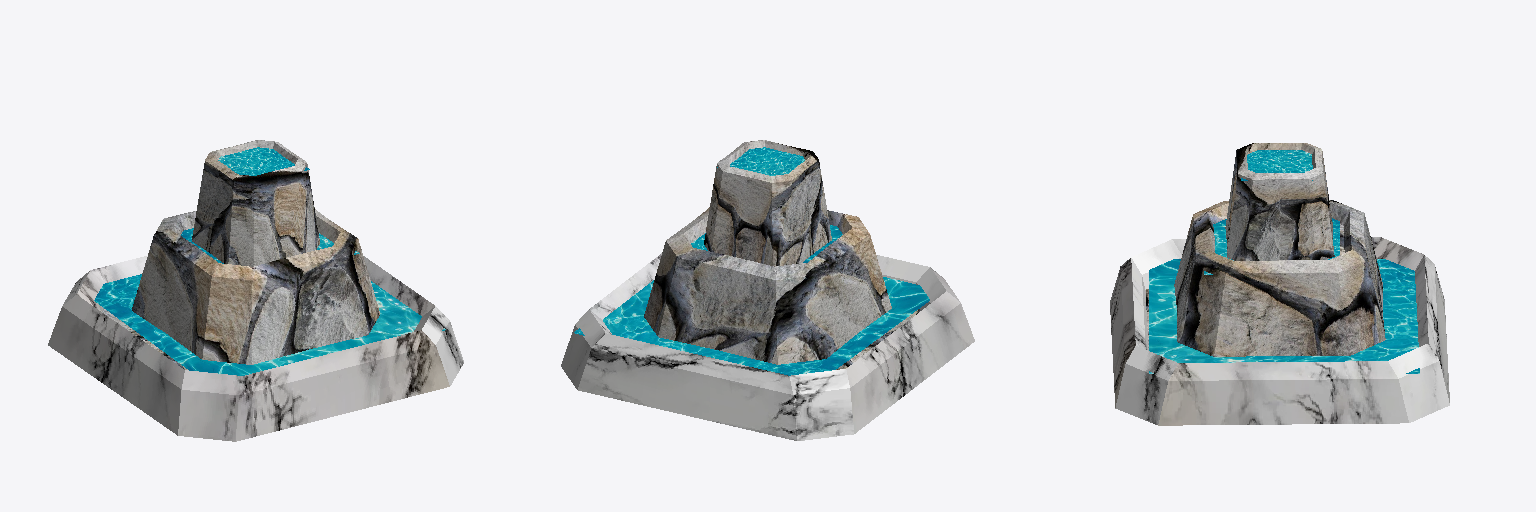
3 renders of one model, left to right at view 1: azimuth 30°, elevation 25°; view 2: azimuth 150°, elevation 25°; view 3: azimuth 270°, elevation 25°, orthographic.
Parts seen in each view (by area): view 1: Plane.003, Cube.003, Plane, Plane.002; view 2: Plane.003, Cube.003, Plane, Plane.002; view 3: Plane.003, Cube.003, Plane, Plane.002, Plane.001.
Part boxes in pixels (x1,y1,x2,y2): Plane.003: (102, 140, 379, 369); Cube.003: (48, 256, 463, 441); Plane: (94, 274, 445, 375); Plane.002: (218, 147, 309, 175); Plane.003: (644, 140, 920, 369); Cube.003: (561, 253, 974, 440); Plane: (574, 277, 929, 375); Plane.002: (717, 147, 804, 175); Plane.003: (1146, 143, 1385, 356); Cube.003: (1110, 237, 1449, 425); Plane: (1149, 259, 1419, 373); Plane.002: (1241, 150, 1312, 180); Plane.001: (1204, 218, 1339, 274).
Bounding box in the file's own units: 6.45 × 4.09 × 6.45.
8 materials, 3 textured.